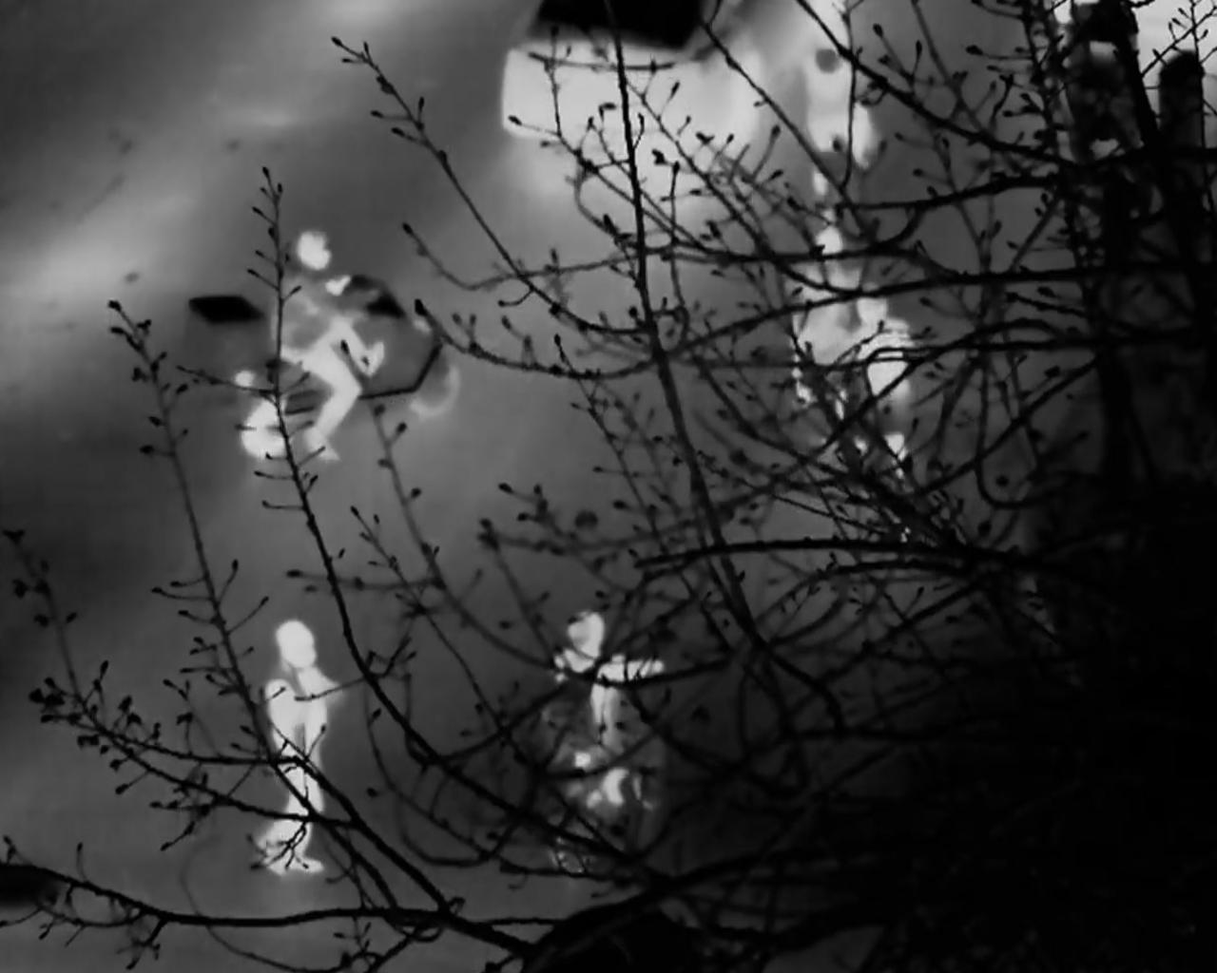person: (274, 220, 362, 462), (551, 615, 653, 796), (260, 626, 342, 844), (802, 225, 887, 411), (848, 295, 935, 472)
